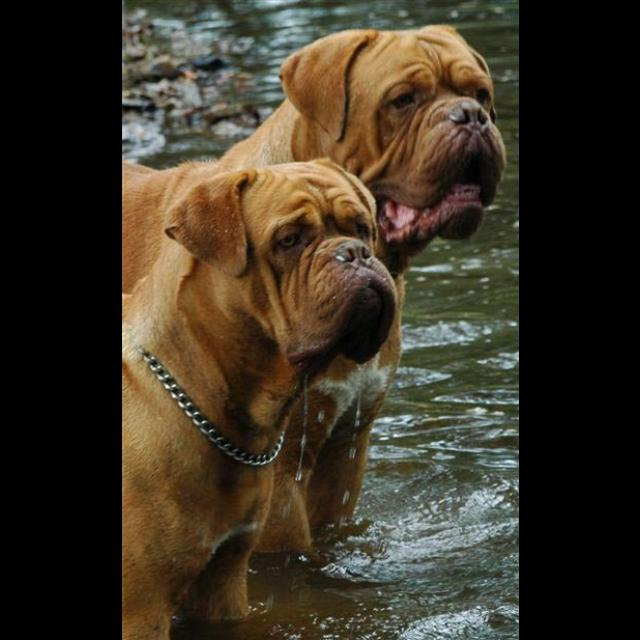dogue_de_bordeaux: (123, 25, 506, 556), (123, 154, 400, 640)
